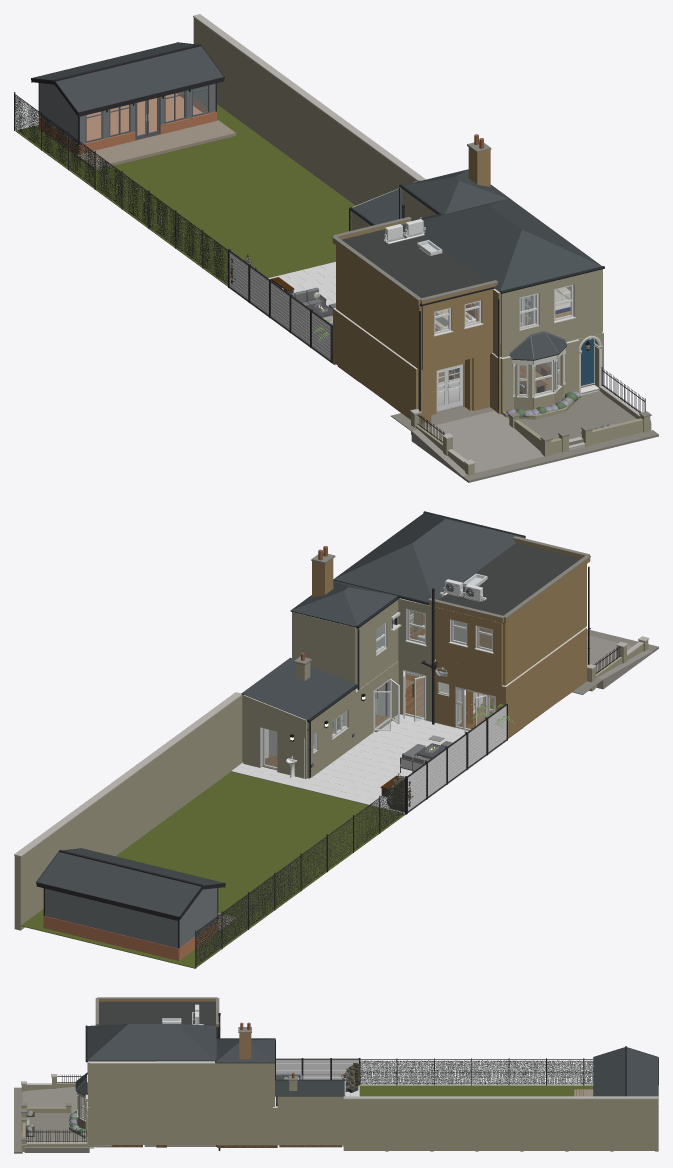
The model's file is house-mobile.glb.
3 renders of one model, top to bottom at view 1: azimuth 30°, elevation 25°; view 2: azimuth 150°, elevation 25°; view 3: azimuth 270°, elevation 25°, orthographic. The views are drawn at different scales.
Parts seen in each view (by area): view 1: web_584, web_100, web_16, web_95, web_2, web_587, web_94, web_588, web_54, web_99, web_45, web_595 (+15 smaller); view 2: web_584, web_100, web_2, web_16, web_95, web_587, web_585, web_94, web_588, web_596, web_99, web_595 (+9 smaller); view 3: web_95, web_2, web_16, web_94, web_587, web_100, web_584, web_588, web_45, web_99, web_96, web_595 (+12 smaller).
Part boxes in pixels (left/top/right/bottom): web_584: left=15, top=104, right=355, bottom=286; web_100: left=31, top=42, right=236, bottom=170; web_16: left=336, top=189, right=602, bottom=357; web_95: left=193, top=18, right=416, bottom=205; web_2: left=333, top=181, right=650, bottom=430; web_587: left=423, top=198, right=601, bottom=291; web_94: left=15, top=95, right=227, bottom=283; web_588: left=342, top=224, right=487, bottom=305; web_54: left=411, top=410, right=543, bottom=477; web_99: left=229, top=252, right=330, bottom=359; web_45: left=508, top=391, right=651, bottom=445; web_595: left=403, top=169, right=509, bottom=214; web_584: left=21, top=771, right=405, bottom=968; web_100: left=36, top=848, right=236, bottom=960; web_2: left=242, top=627, right=586, bottom=778; web_16: left=292, top=564, right=586, bottom=684; web_95: left=14, top=695, right=242, bottom=930; web_587: left=333, top=513, right=524, bottom=602; web_585: left=231, top=714, right=468, bottom=813; web_94: left=196, top=780, right=404, bottom=965; web_588: left=439, top=542, right=580, bottom=623; web_596: left=241, top=657, right=356, bottom=720; web_99: left=408, top=705, right=506, bottom=810; web_595: left=290, top=580, right=397, bottom=627; web_95: left=343, top=1099, right=658, bottom=1151; web_2: left=22, top=1073, right=345, bottom=1151; web_16: left=88, top=1061, right=274, bottom=1104; web_94: left=360, top=1060, right=593, bottom=1084; web_587: left=87, top=1024, right=216, bottom=1061; web_100: left=574, top=1046, right=658, bottom=1096; web_584: left=359, top=1085, right=593, bottom=1096; web_588: left=99, top=1001, right=216, bottom=1025; web_45: left=24, top=1112, right=89, bottom=1152; web_99: left=276, top=1059, right=358, bottom=1079; web_96: left=343, top=1096, right=658, bottom=1099; web_595: left=215, top=1039, right=274, bottom=1063.
Bounding box in the file's own units: 10 × 8.9 × 40.79.
428 materials, 61 textured.
